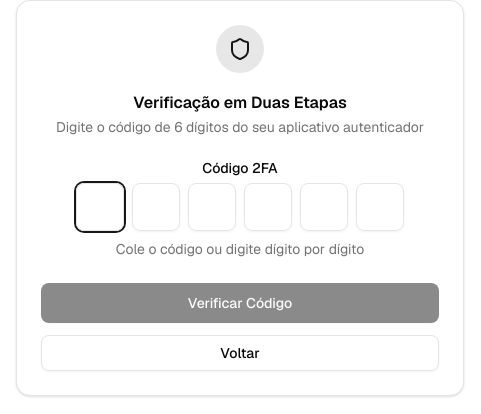
it: TwoFactorForm › should disable back button during loading
Start submission
In the field with test id "totp-input-0": (100, 207) [76,183,124,231], type "1"
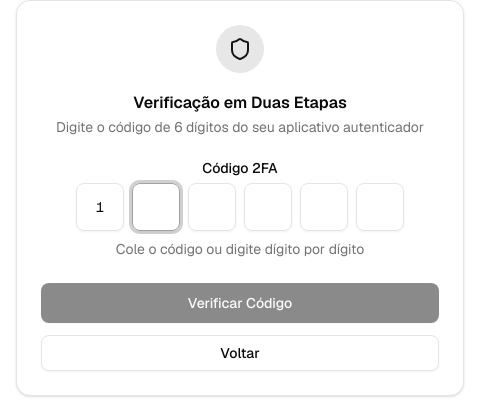
In the field with test id "totp-input-1": (156, 207) [132,183,180,231], type "2"
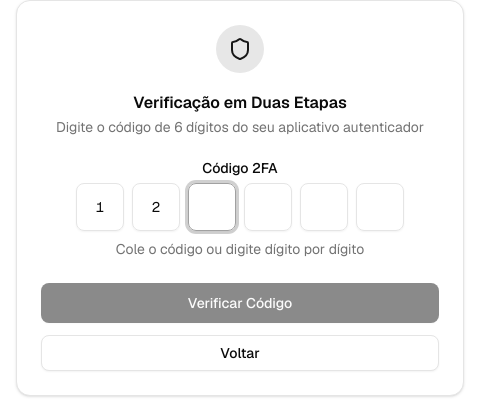
In the field with test id "totp-input-2": (212, 207) [188,183,236,231], type "3"
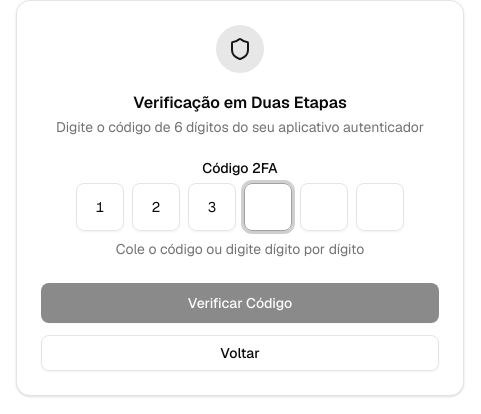
In the field with test id "totp-input-3": (268, 207) [244,183,292,231], type "4"
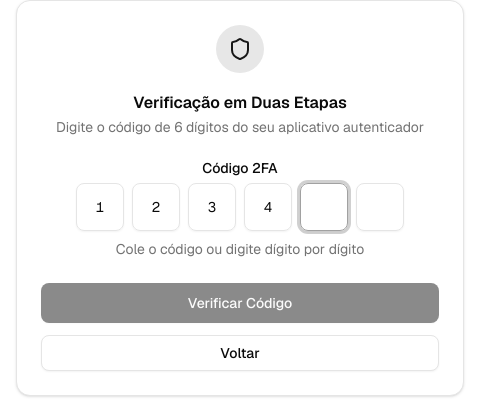
In the field with test id "totp-input-4": (324, 207) [300,183,348,231], type "5"
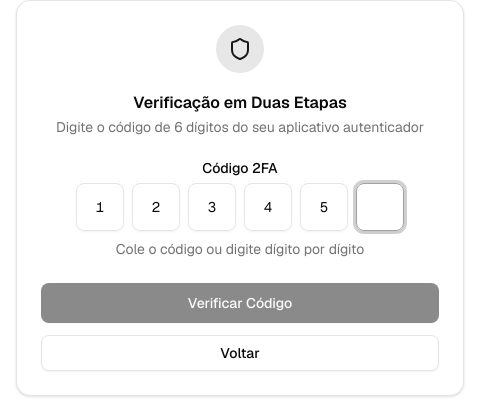
In the field with test id "totp-input-5": (380, 207) [356,183,404,231], type "6"
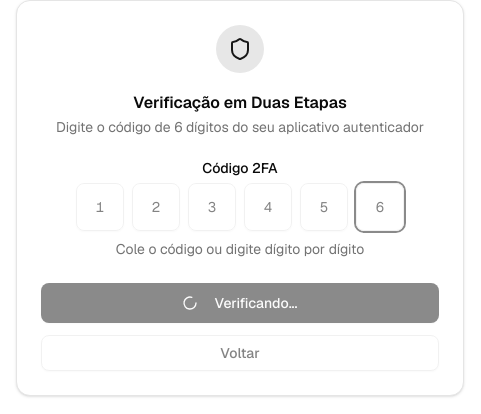
Expected: the button "Voltar" is disabled, [41,335,439,371]
